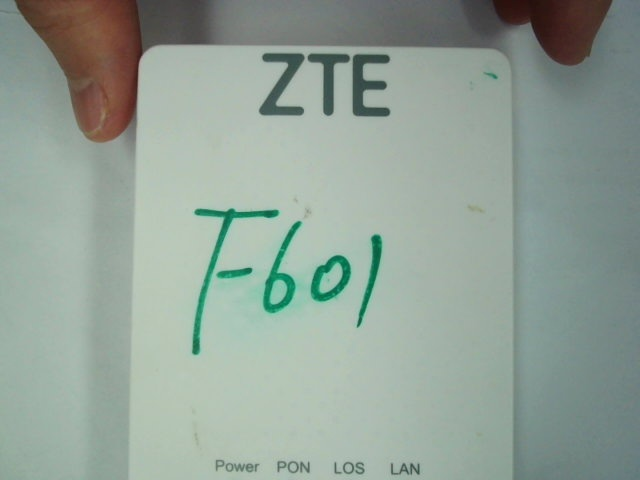AN_ZTE: (256, 51, 403, 124)
